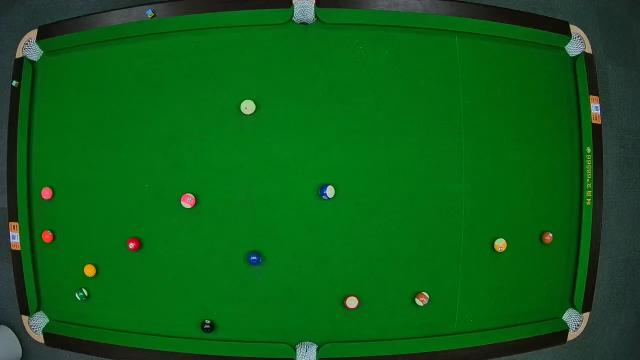bag1: (22, 40, 42, 62)
bag2: (292, 0, 315, 24)
bag3: (564, 32, 588, 56)
bag4: (27, 311, 49, 333)
bag5: (296, 340, 320, 360)
bag6: (563, 308, 583, 332)
ball0: (240, 100, 256, 116)
ball1: (82, 262, 96, 278)
ball10: (318, 183, 336, 201)
ball11: (345, 294, 361, 310)
ball12: (180, 192, 196, 208)
ball14: (75, 286, 89, 302)
ball15: (414, 291, 430, 307)
ball2: (246, 250, 264, 266)
ball3: (126, 236, 142, 252)
ball4: (39, 186, 53, 202)
ball5: (41, 229, 54, 243)
ball7: (540, 230, 554, 246)
ball8: (200, 318, 214, 334)
ball9: (492, 238, 508, 254)
